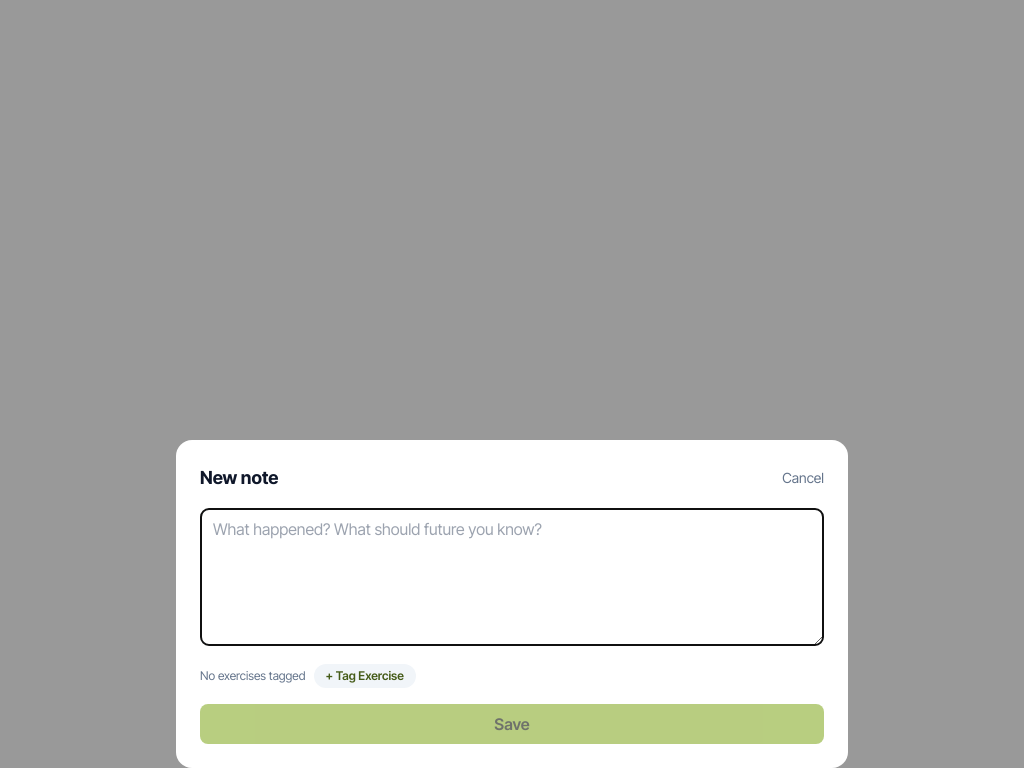
NoteEditorSheet — saving › surfaces the error and stays open with the typed body when the write fails
Type "do not lose me" into the text box named "Notes".
click(512, 577); type("do not lose me")  # box [200,508,824,646]
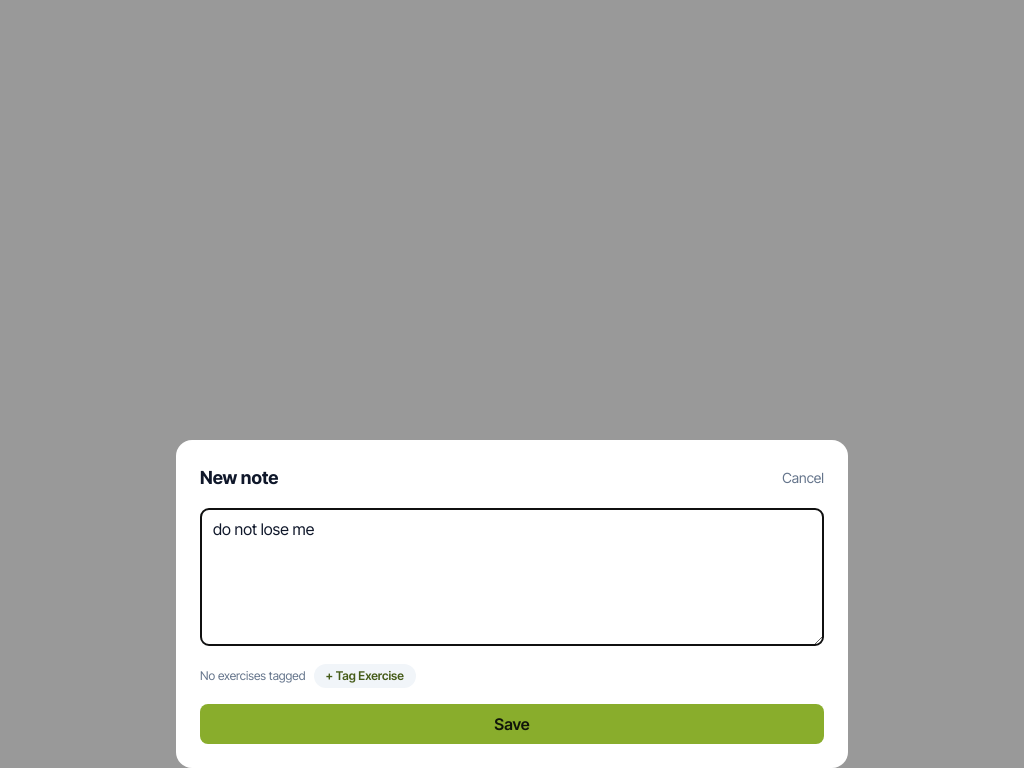
Click the button "Save".
click(512, 724)  # box [200,704,824,744]
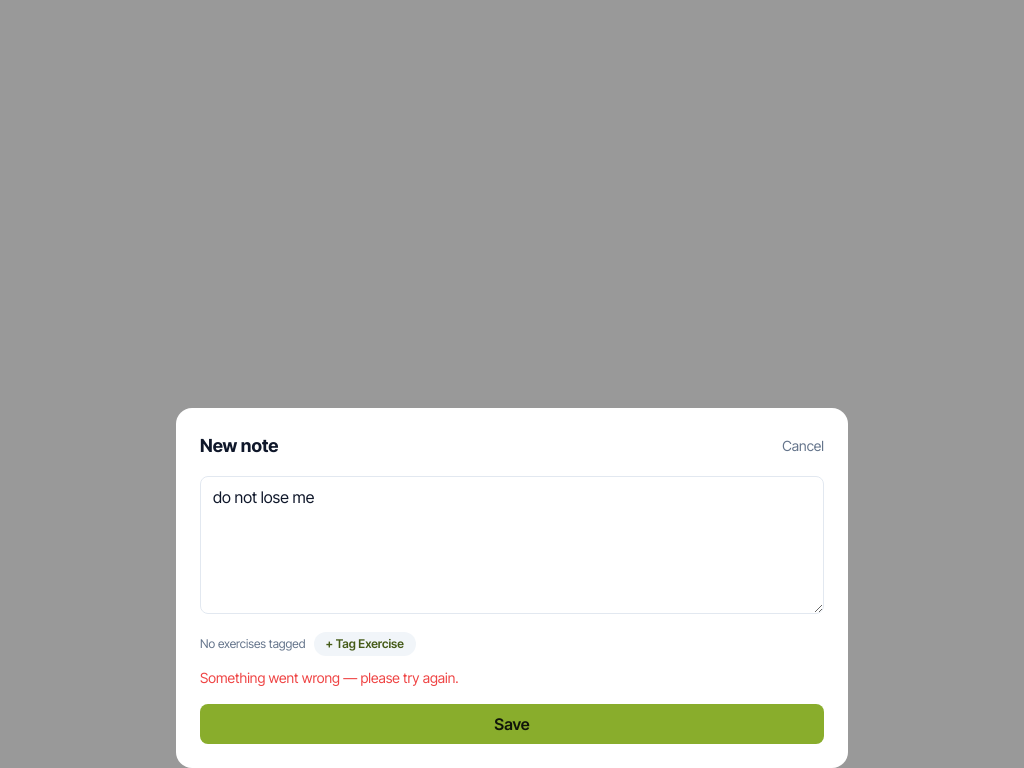
Expected: the button "Save" is enabled, [200,704,824,744]
Expected: the text "Something went wrong — please try again." is shown, [200,669,459,686]
